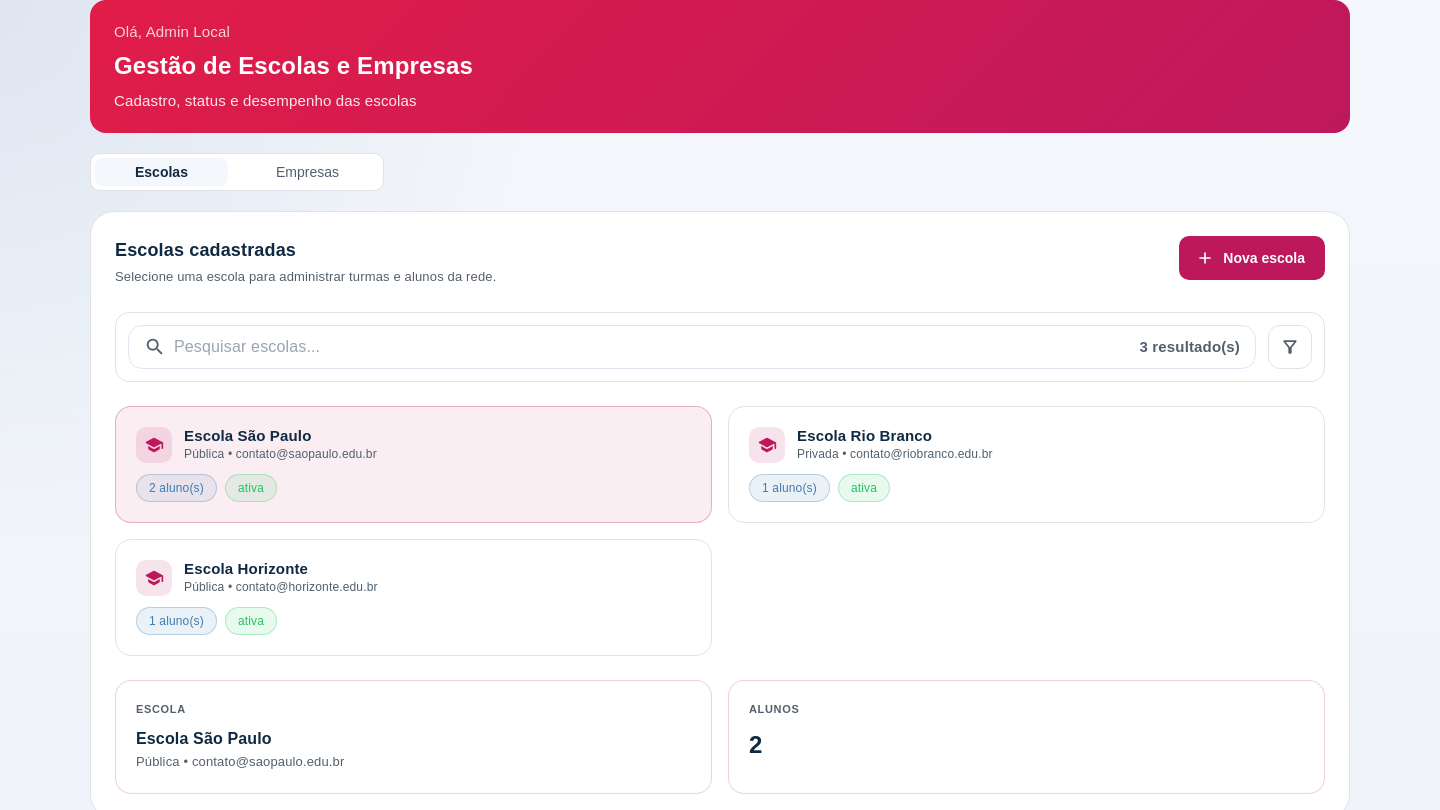
Test: SchoolCompanyPage changes students when another school is selected
This screenshot has width=1440, height=810.
Click the element with test id "school-item-3". click: [414, 597]
box: x1=115 y1=539 x2=712 y2=656
(page scrolled)
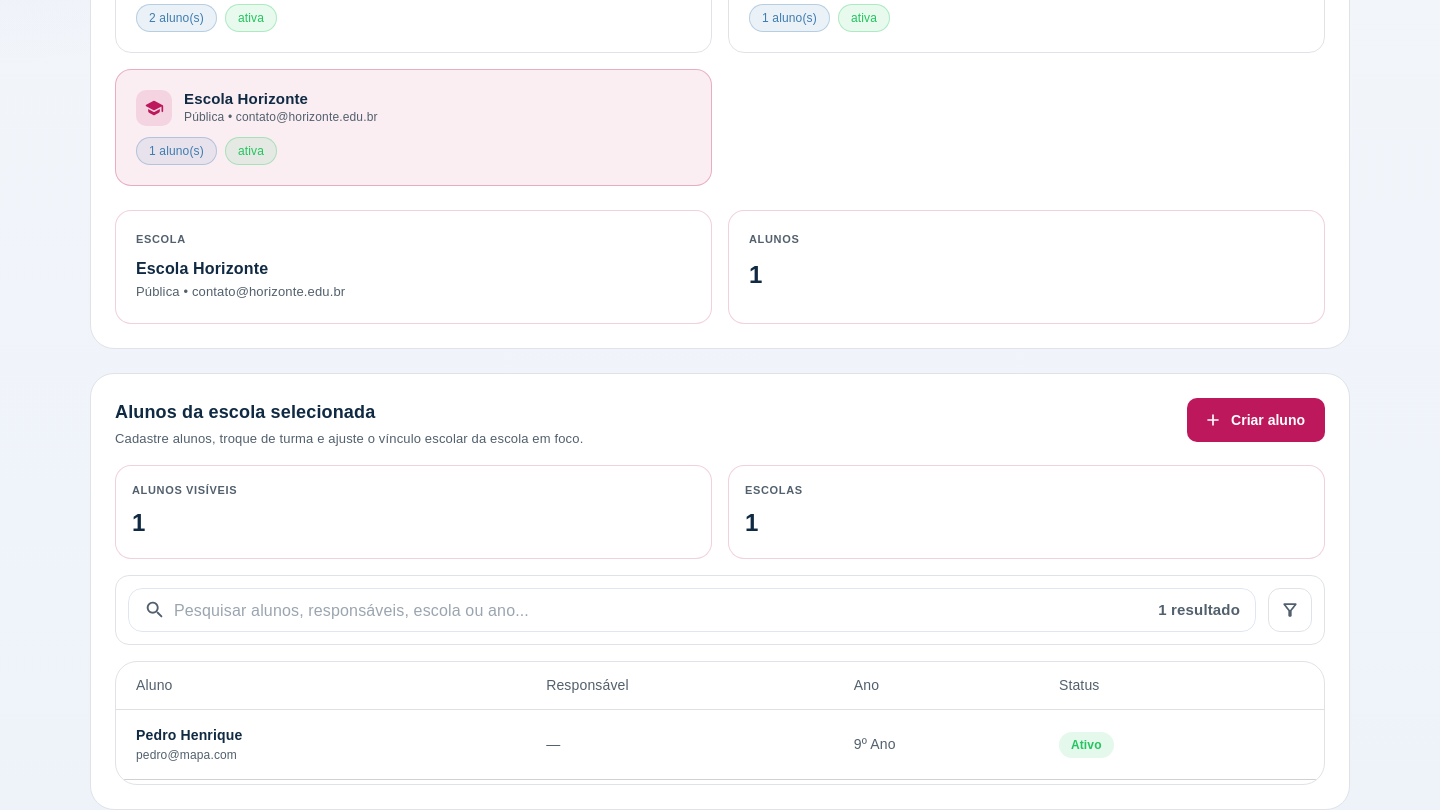
Check: the element with test id "student-item-s6" is shown, box x1=116 y1=710 x2=1324 y2=780
Check: the text "Pedro Henrique" is shown, box x1=136 y1=727 x2=242 y2=743
